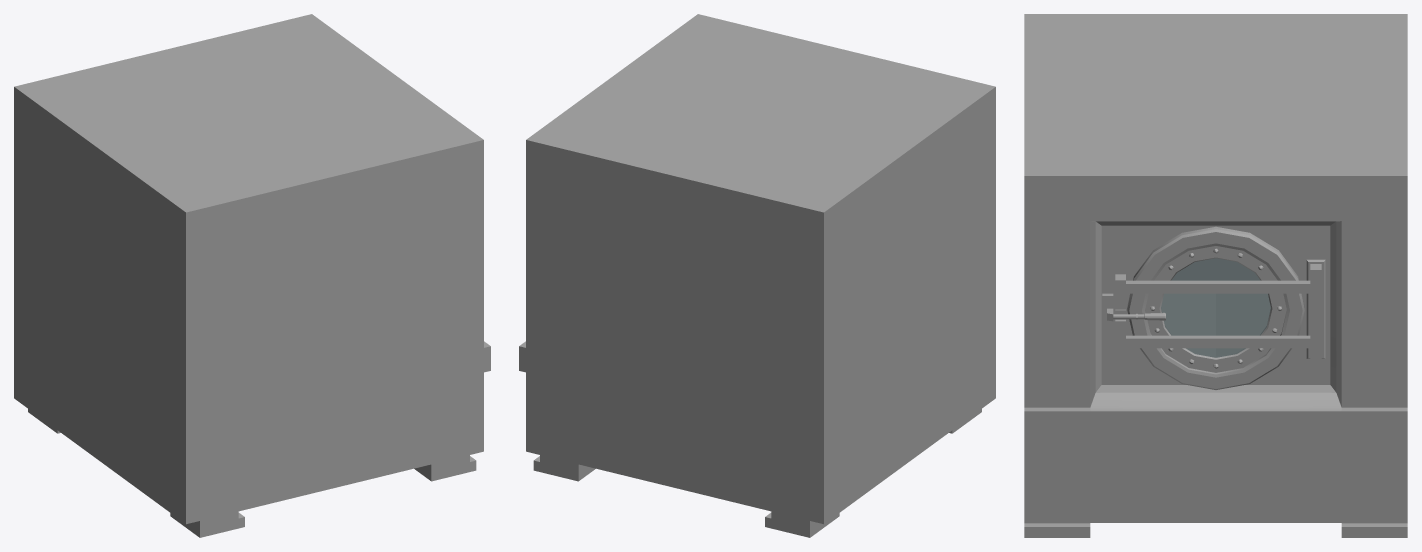
Rendered from Washer_MDL_PDH.fbx.
3 views of the same model, side by side, from view 1: azimuth 30°, elevation 25°; view 2: azimuth 150°, elevation 25°; view 3: azimuth 270°, elevation 25° (orthographic). The views are drawn at different scales.
Visible parts, largest first — view 1: Washer_MDL_PDH1; view 2: Washer_MDL_PDH1; view 3: Washer_MDL_PDH1, polySurface12, WasherHandle_MDL_PDH.
Boxes of the visible parts, <box> form: Washer_MDL_PDH1: <box>14,14,490,537</box>; Washer_MDL_PDH1: <box>519,14,995,537</box>; Washer_MDL_PDH1: <box>1024,14,1407,537</box>; polySurface12: <box>1115,226,1325,389</box>; WasherHandle_MDL_PDH: <box>1102,293,1165,326</box>.
Size of the model in its own units: 2.26 by 2.33 by 2.21.
